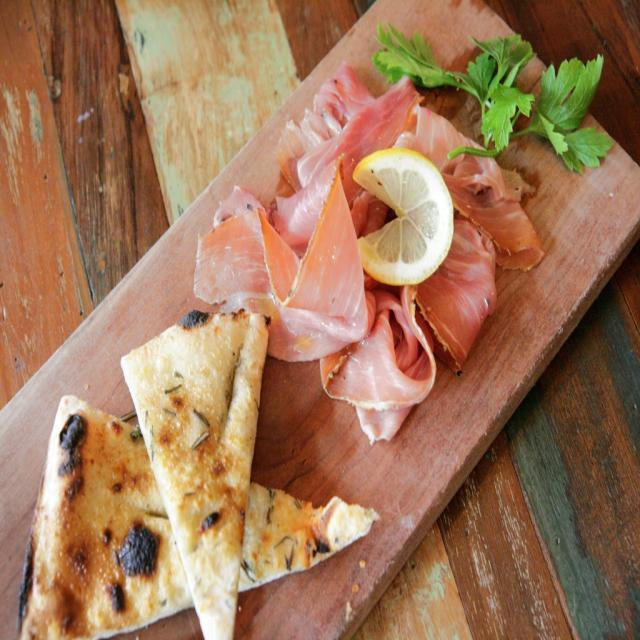Lemon: (360, 148, 454, 284)
